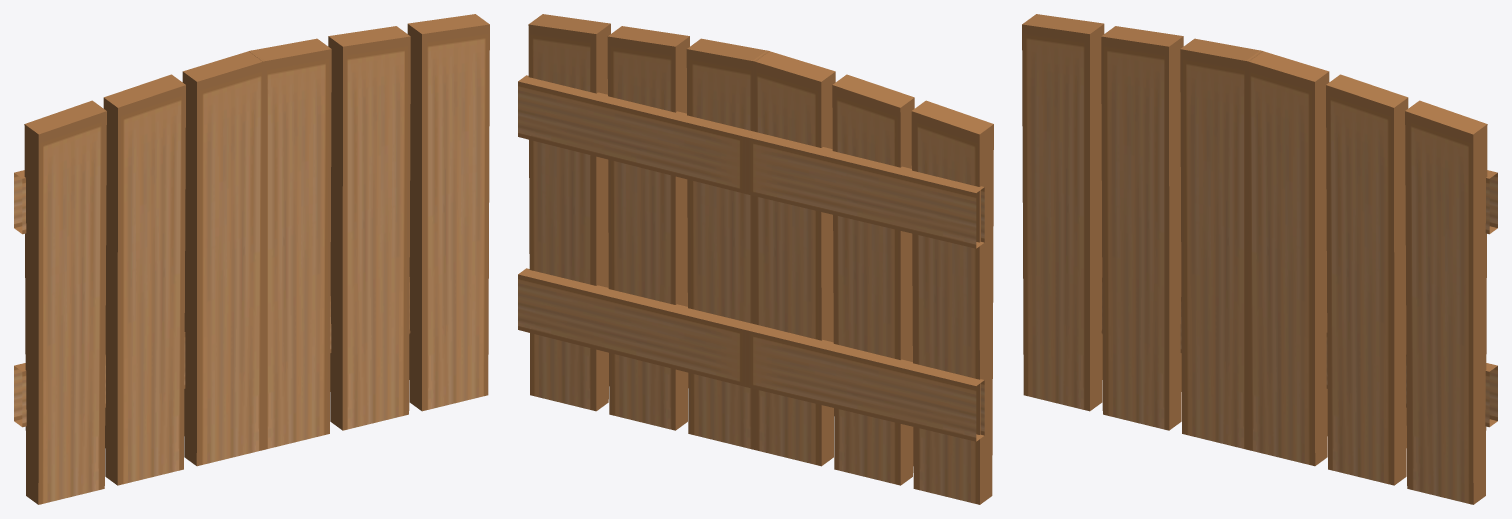
File: PalmWoodGateHand.fbx
The picture shows the model from 3 angles, left to right: view 1: azimuth 30°, elevation 25°; view 2: azimuth 150°, elevation 25°; view 3: azimuth 330°, elevation 25°; orthographic projection.
Parts seen in each view (by area): view 1: FencePost, FencePost (1); view 2: FencePost, FencePost (1); view 3: FencePost (1), FencePost.
Boxes of the visible parts, x1=… form: FencePost: x1=14, y1=50, x2=265, y2=504; FencePost (1): x1=249, y1=14, x2=489, y2=449; FencePost: x1=744, y1=50, x2=993, y2=504; FencePost (1): x1=518, y1=14, x2=769, y2=449; FencePost (1): x1=1246, y1=50, x2=1497, y2=504; FencePost: x1=1022, y1=14, x2=1262, y2=449.
Bounding box in the file's own units: 1.19 × 0.9697 × 0.0992.
